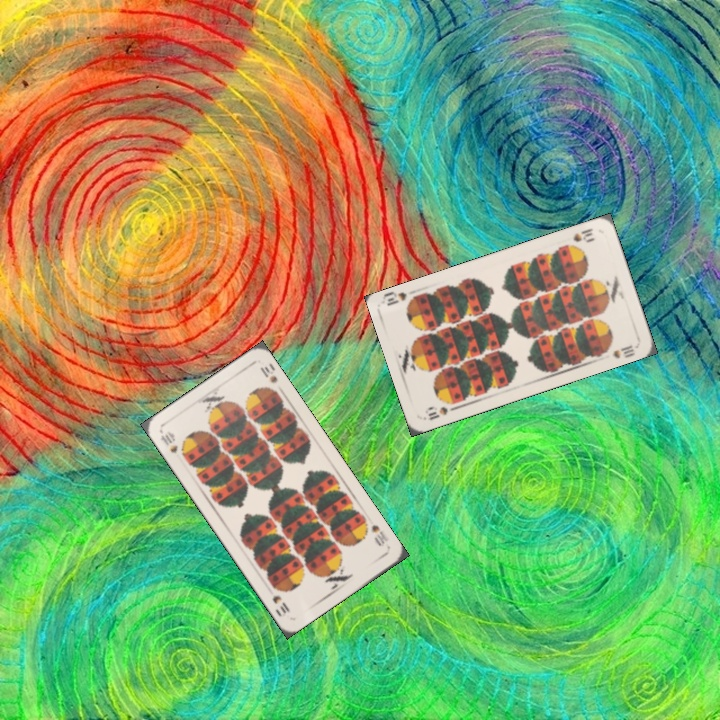S10: (561, 224, 597, 251), (156, 427, 181, 456), (367, 521, 392, 549), (421, 402, 450, 423)
